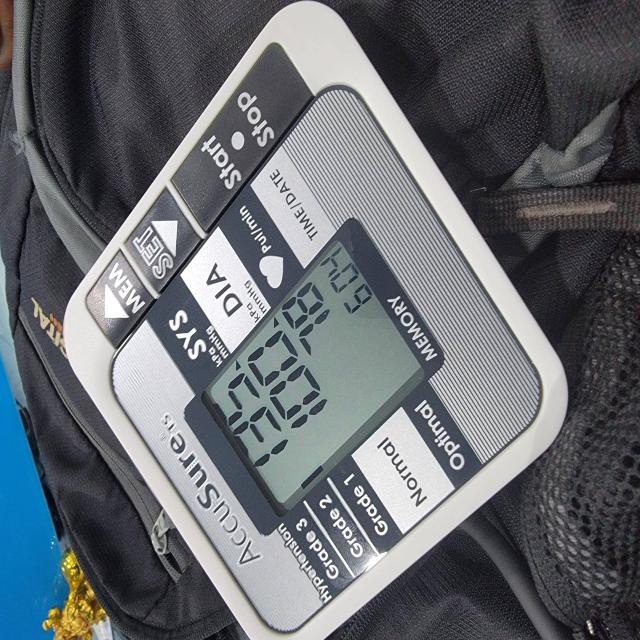bp: (59, 2, 568, 640)
